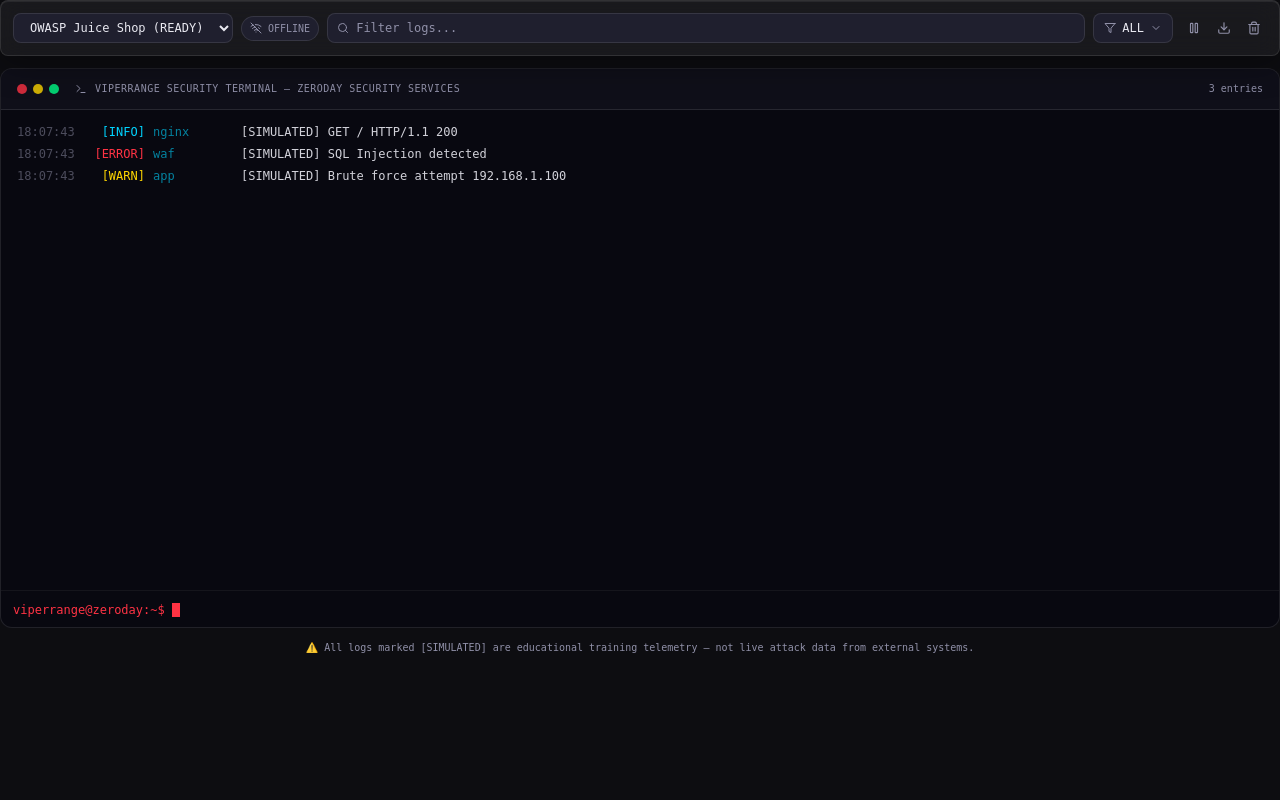
Test: LiveTerminal › clears logs when clear button clicked
This screenshot has width=1280, height=800.
Click the button titled "clear terminal" at (1254, 28), box [1241, 15, 1267, 41]
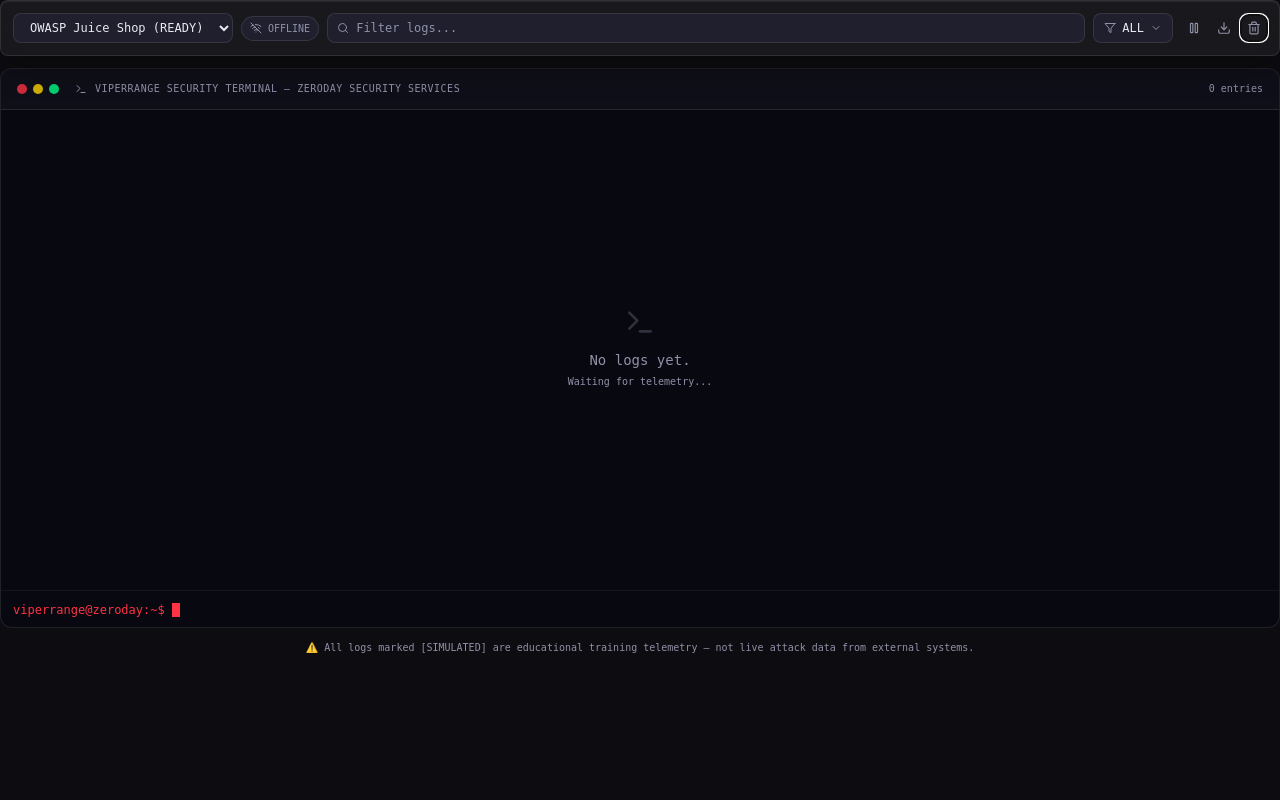
Expected: the text "SQL Injection detected" is gone
Expected: the text "No logs yet." is shown, [589, 352, 691, 368]
